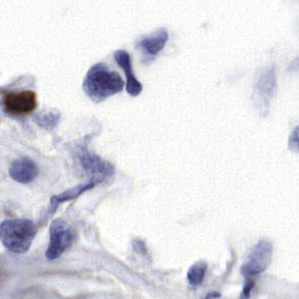Lymphocyte: (5, 91, 39, 115)
